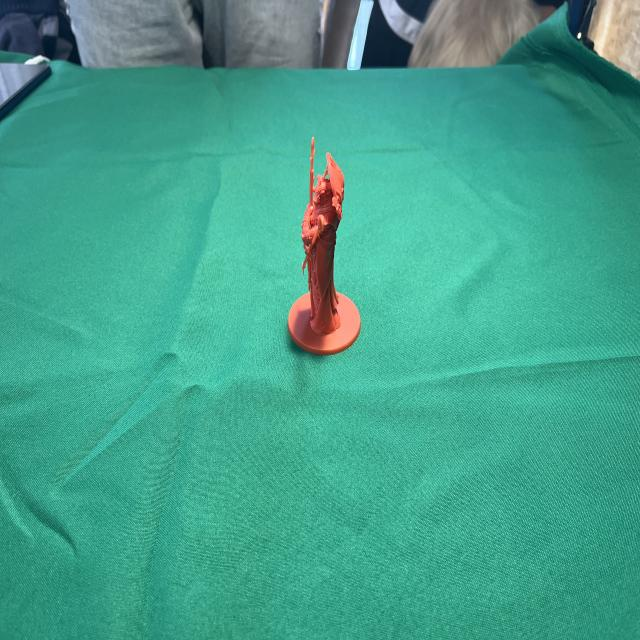amon: (286, 133, 363, 357)
